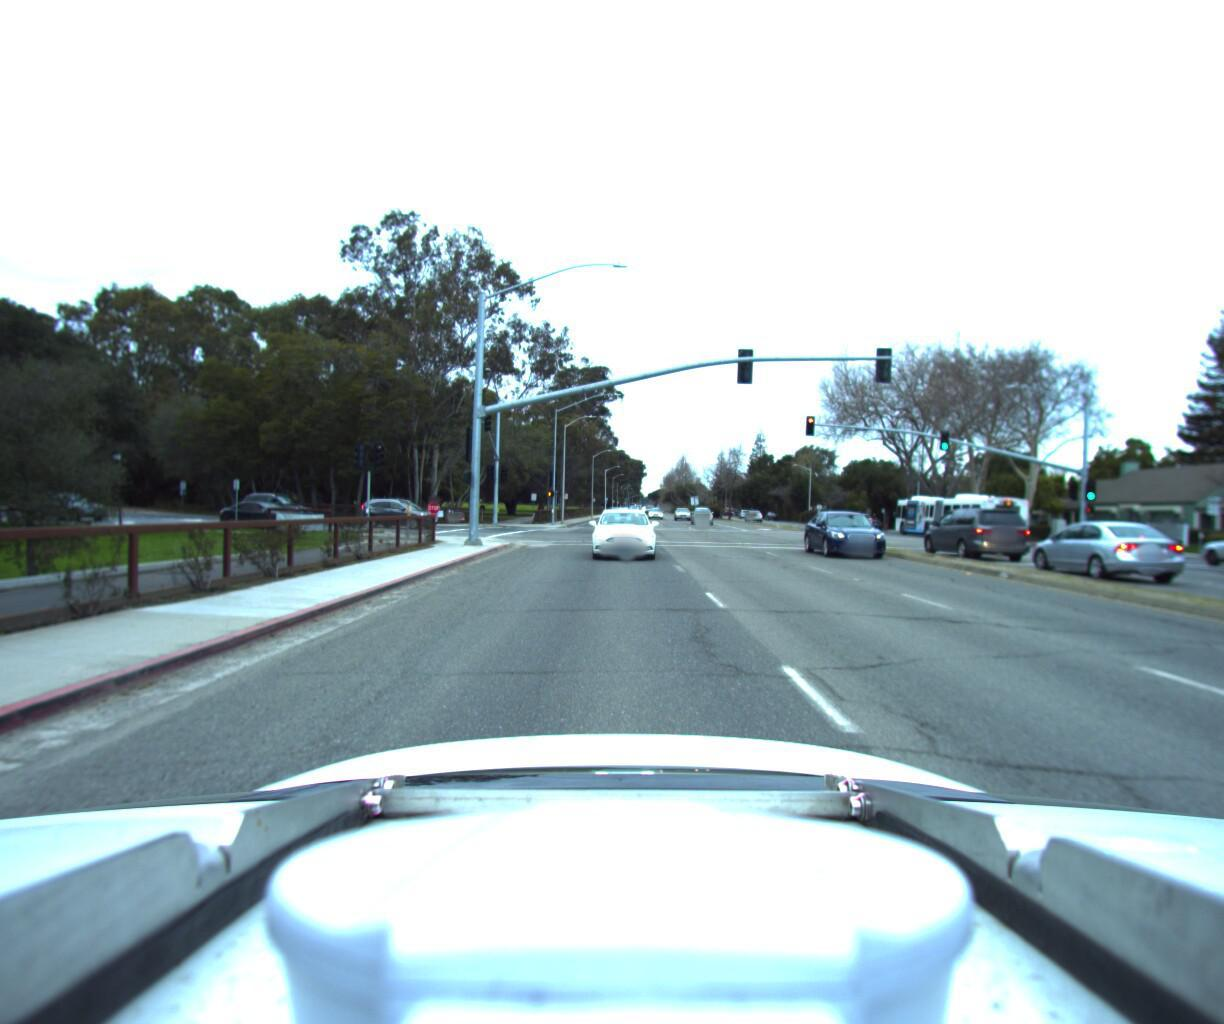bus: (891, 485, 1030, 537)
car: (1021, 509, 1196, 579), (917, 496, 1039, 553), (813, 501, 910, 554), (593, 498, 655, 554), (207, 494, 309, 524), (353, 491, 445, 522), (1184, 519, 1224, 564), (692, 498, 715, 517)
